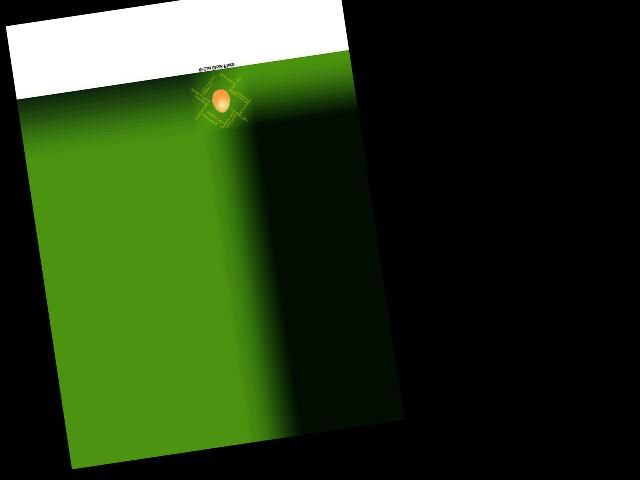egg: (211, 88, 232, 114)
